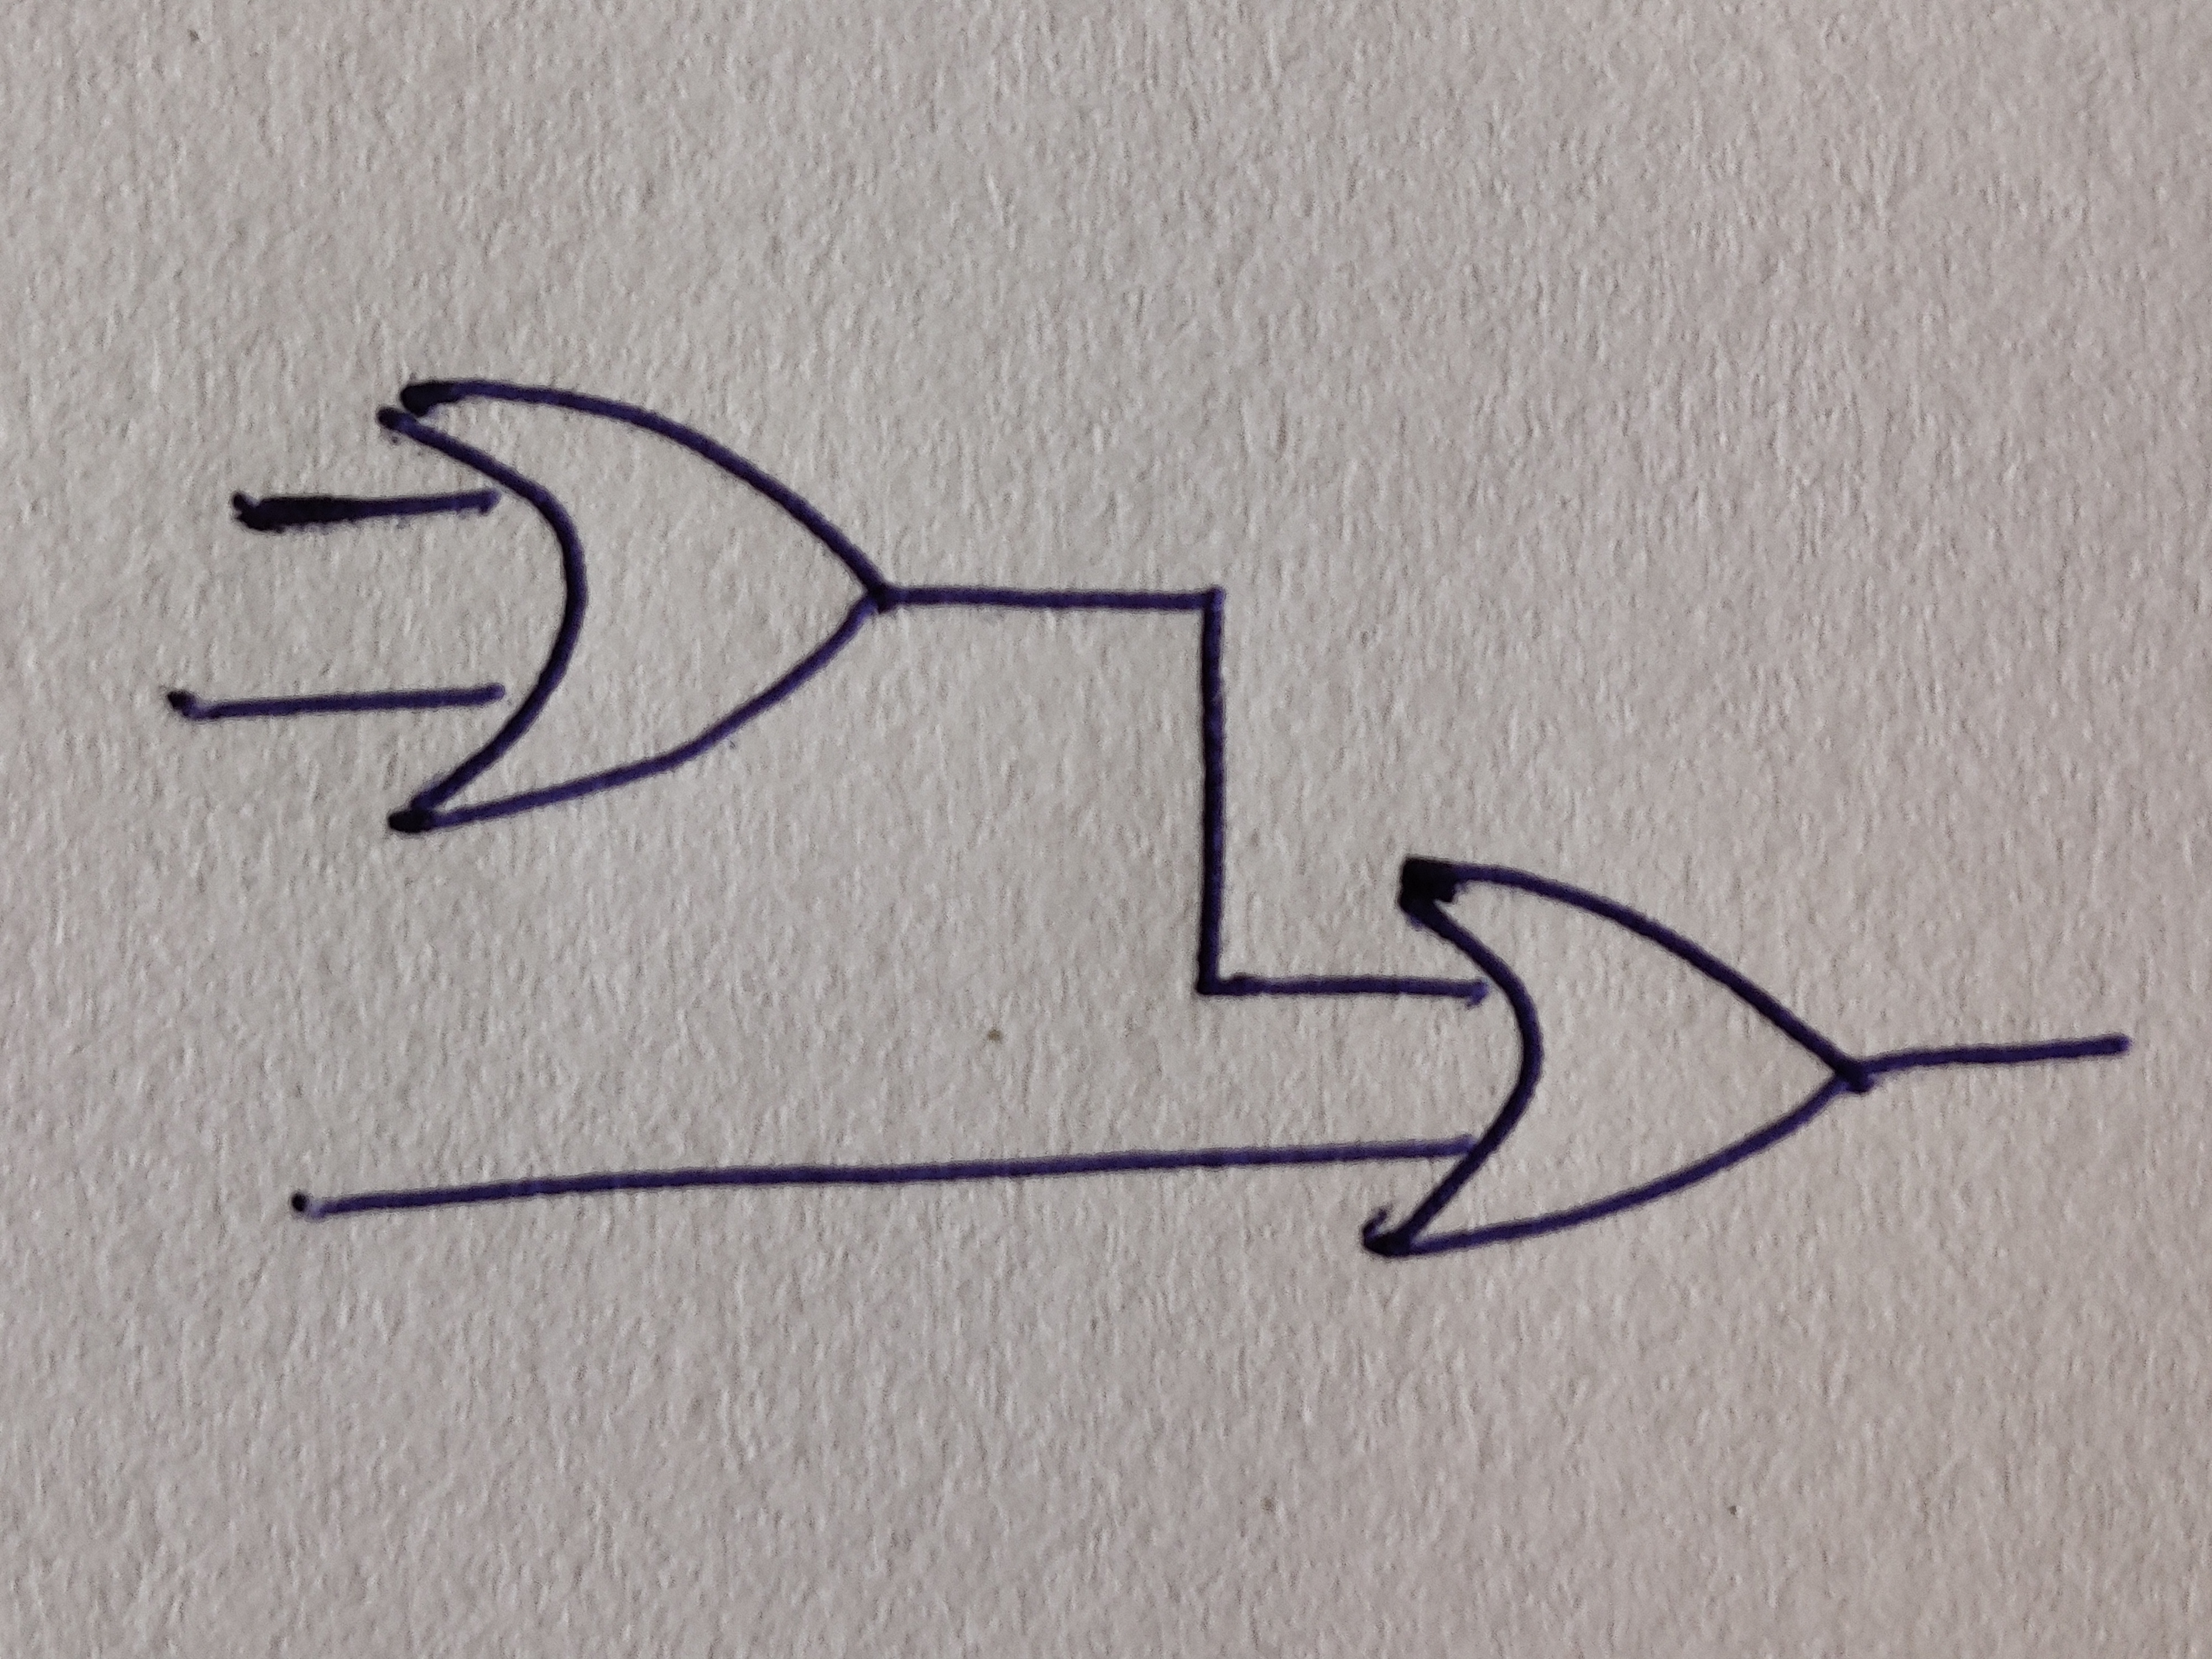or: (376, 378, 890, 833), (1362, 856, 1874, 1256)
